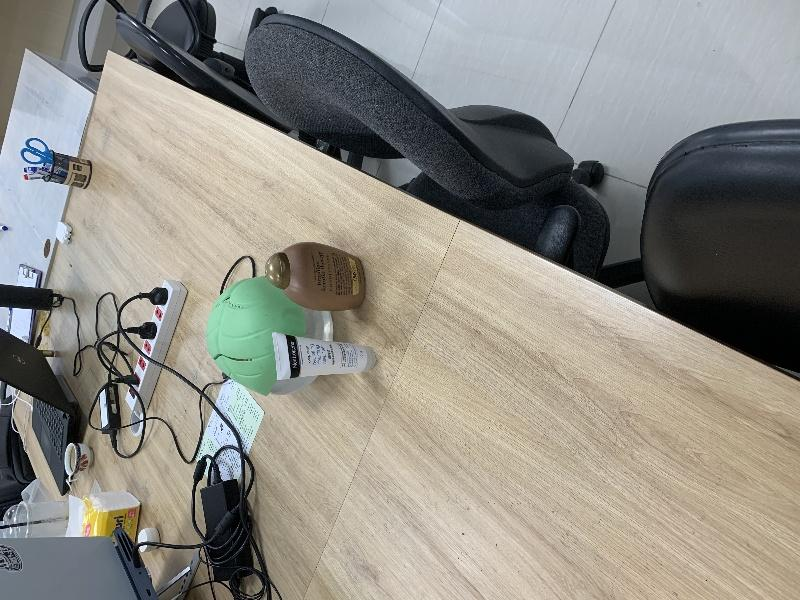BrazilianKerationTherapy_Conditioner: (265, 242, 365, 311)
HydratingFoamingCleanser: (272, 332, 376, 380)
